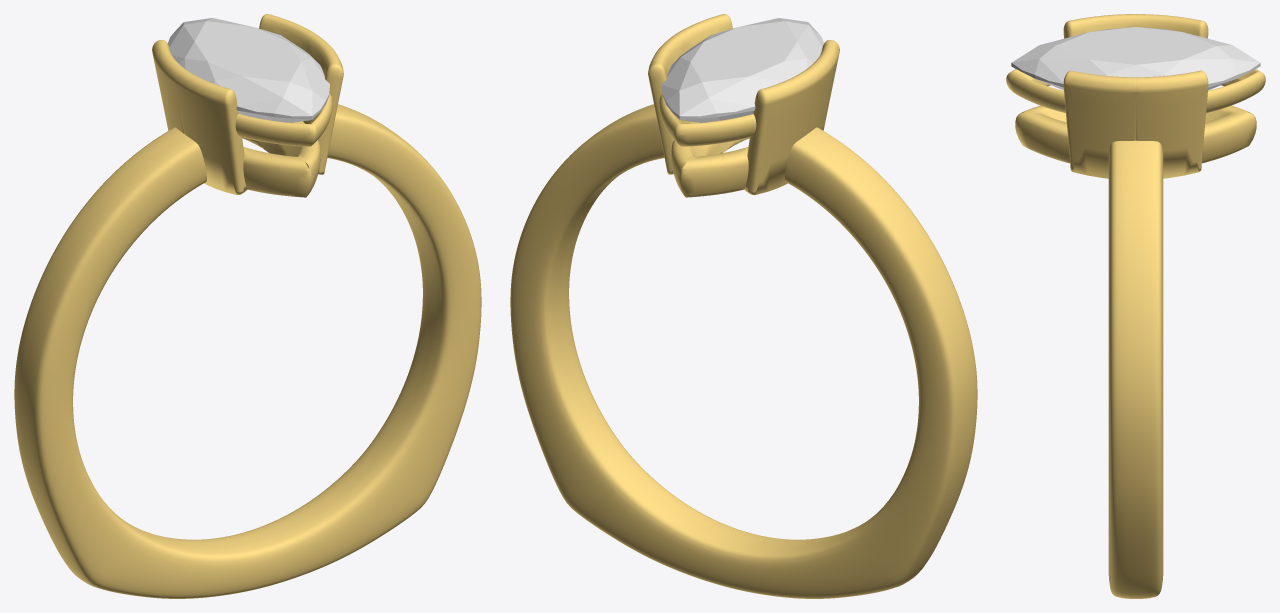
File: diamond-marquise-yellowgold-halfmoonbezel-europeanshank-nosidestones.glb
The picture shows the model from 3 angles, left to right: view 1: azimuth 30°, elevation 25°; view 2: azimuth 150°, elevation 25°; view 3: azimuth 270°, elevation 25°; orthographic projection. The views are drawn at different scales.
Visible parts, largest first — view 1: metal.003, stone; view 2: metal.003, stone; view 3: metal.003, stone.
Part boxes in pixels (x1,y1,x2,y2): metal.003: (14,14,481,598); stone: (168,18,329,122); metal.003: (510,14,977,598); stone: (662,18,823,122); metal.003: (1006,14,1265,598); stone: (1011,27,1260,90).
Size of the model in its own units: 20.1 by 22.73 by 10.4.
